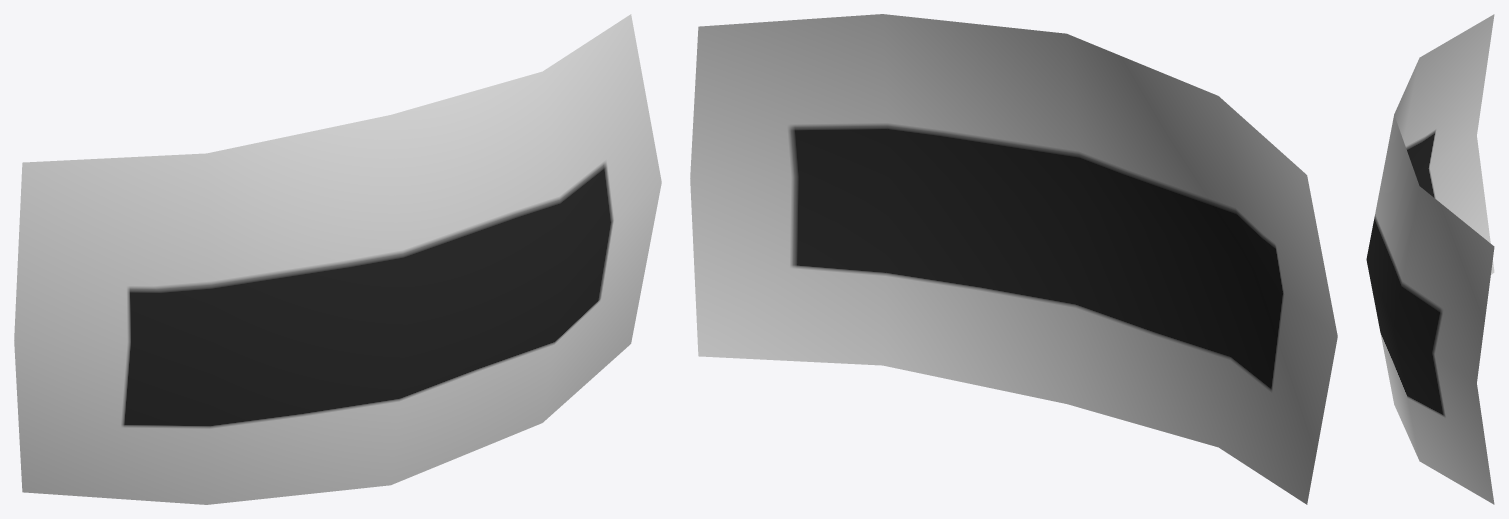
File: eye7.fbx
3 views of the same model, side by side, from view 1: azimuth 30°, elevation 25°; view 2: azimuth 150°, elevation 25°; view 3: azimuth 270°, elevation 25° (orthographic). The views are drawn at different scales.
Visible parts, largest first — view 1: Cube.012; view 2: Cube.012; view 3: Cube.012.
Part boxes in pixels (<box>): Cube.012: <box>14,14,661,504</box>; Cube.012: <box>690,14,1337,504</box>; Cube.012: <box>1366,14,1494,504</box>.
Bounding box in the file's own units: 43.42 × 199 × 109.
